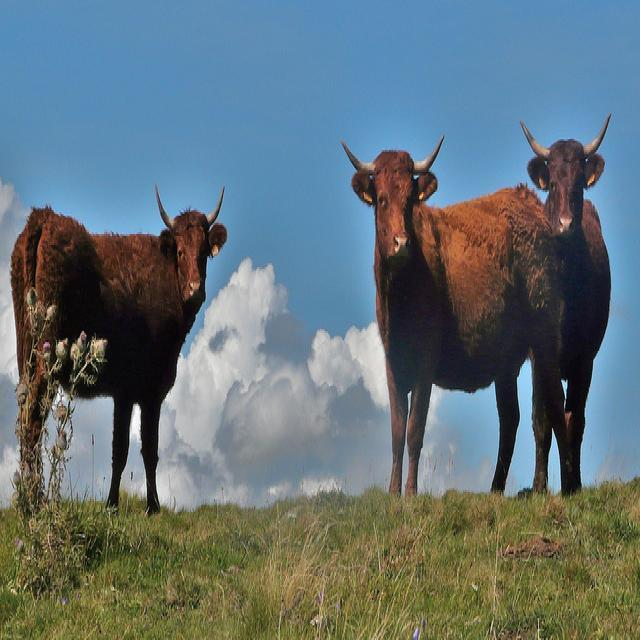cow: (341, 132, 571, 499), (10, 177, 228, 512), (517, 110, 610, 492)
